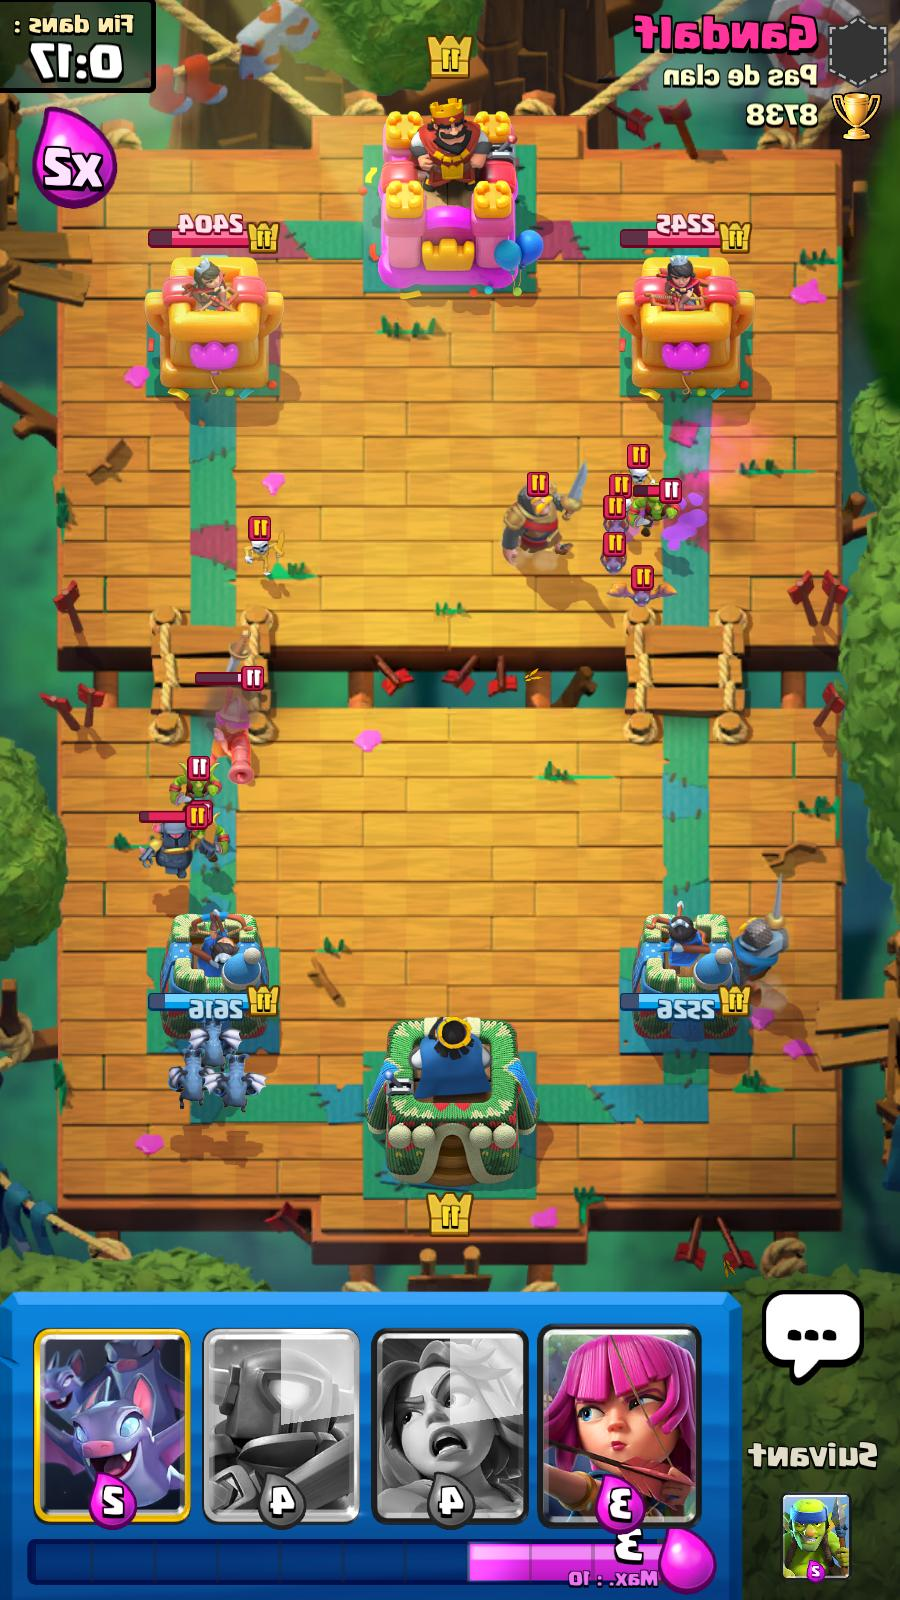bat: (608, 564, 673, 613), (598, 532, 629, 575), (602, 495, 631, 540)
chevalier: (718, 869, 788, 1011), (500, 455, 590, 563)
gargouille: (202, 1051, 270, 1119), (165, 1049, 218, 1111), (185, 1018, 242, 1073)
gobelin: (176, 802, 233, 871), (166, 752, 222, 814), (632, 480, 684, 543)
mini_PEKKA: (131, 800, 219, 881)
mousquetaire: (193, 667, 268, 787)
squelette: (242, 513, 288, 579), (619, 443, 655, 495)
